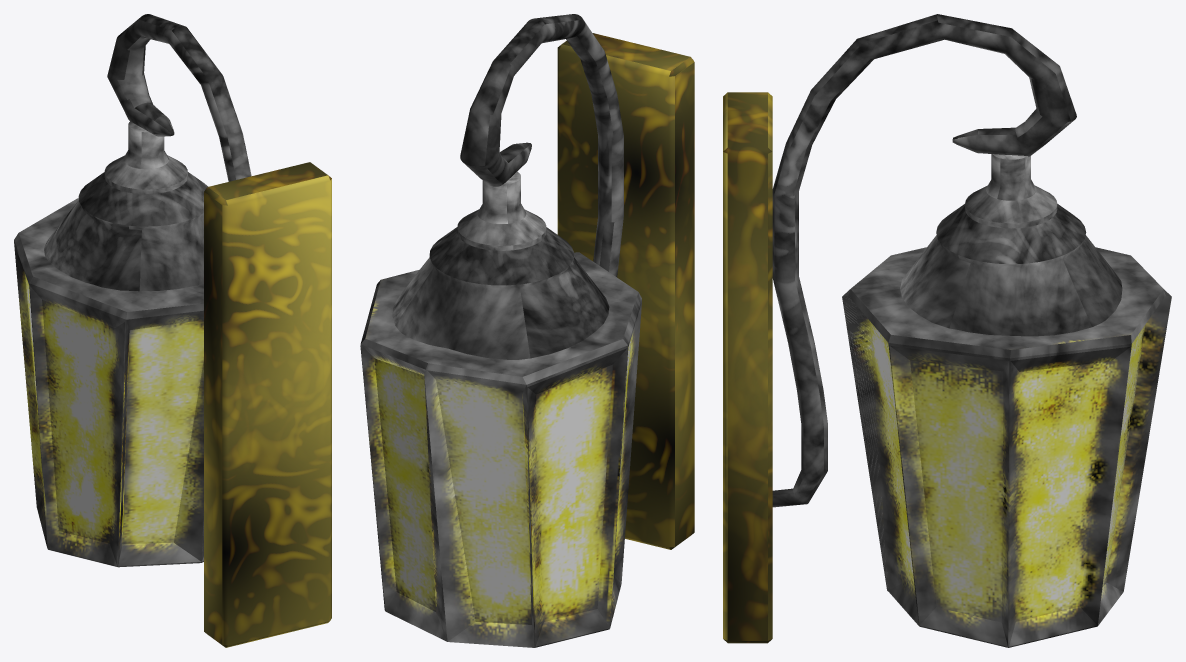
Rendered from Lantern.glb.
3 renders of one model, left to right at view 1: azimuth 30°, elevation 25°; view 2: azimuth 150°, elevation 25°; view 3: azimuth 270°, elevation 25°, orthographic. The views are drawn at different scales.
Parts seen in each view (by area): view 1: Lantern_Wall, Lantern, Lantern_top, Latern_Bend; view 2: Lantern, Lantern_Wall, Lantern_top, Latern_Bend; view 3: Lantern, Lantern_Wall, Lantern_top, Latern_Bend.
Boxes of the visible parts, box(x1,y1,x2,y2) form: Lantern_Wall: box(204, 162, 331, 647); Lantern: box(14, 198, 203, 567); Lantern_top: box(44, 121, 207, 291); Latern_Bend: box(107, 14, 251, 181); Lantern: box(360, 252, 641, 647); Lantern_Wall: box(557, 33, 694, 549); Lantern_top: box(392, 171, 609, 359); Latern_Bend: box(460, 14, 623, 277); Lantern: box(842, 247, 1171, 647); Lantern_Wall: box(723, 92, 772, 643); Lantern_top: box(900, 154, 1122, 336); Latern_Bend: box(772, 14, 1076, 507).
Bounding box in the file's own units: 1.1 × 2.42 × 1.64.
Materials: 4 (4 with a texture image).
